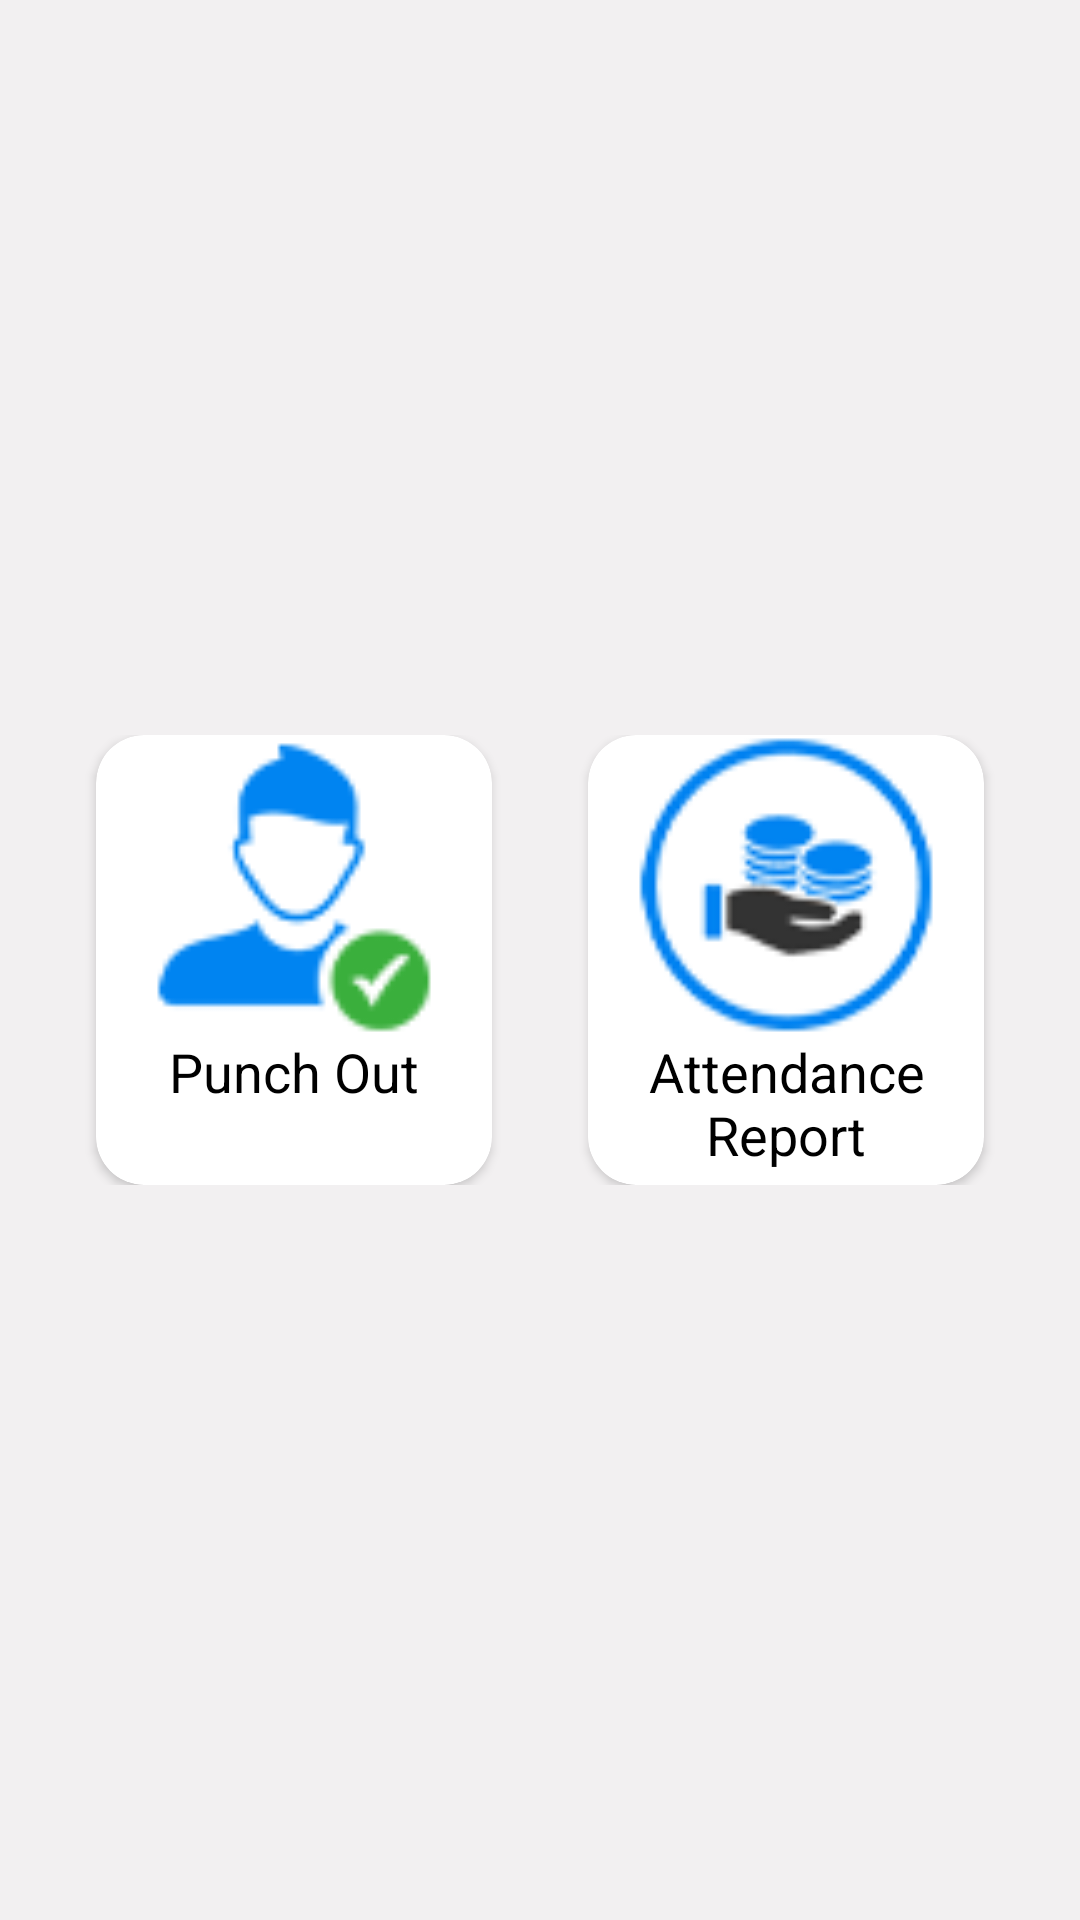

Named icons in this screenshot (1080w x 1920h) and their bounding boxes, bbox(x1, y1, x2, y2):
attendence: bbox(157, 743, 431, 1032)
salary: bbox(590, 738, 933, 1032)
